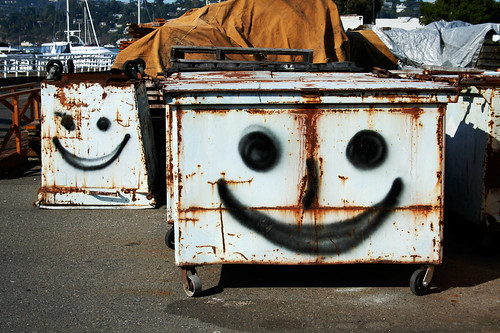dumpster: (164, 78, 450, 287), (44, 60, 150, 213)
graffiti: (184, 109, 430, 259), (49, 106, 134, 180)
